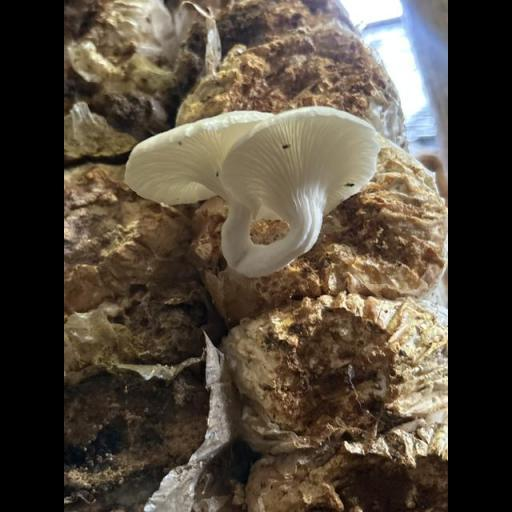White Oyster Mushroom: (123, 106, 381, 275)
